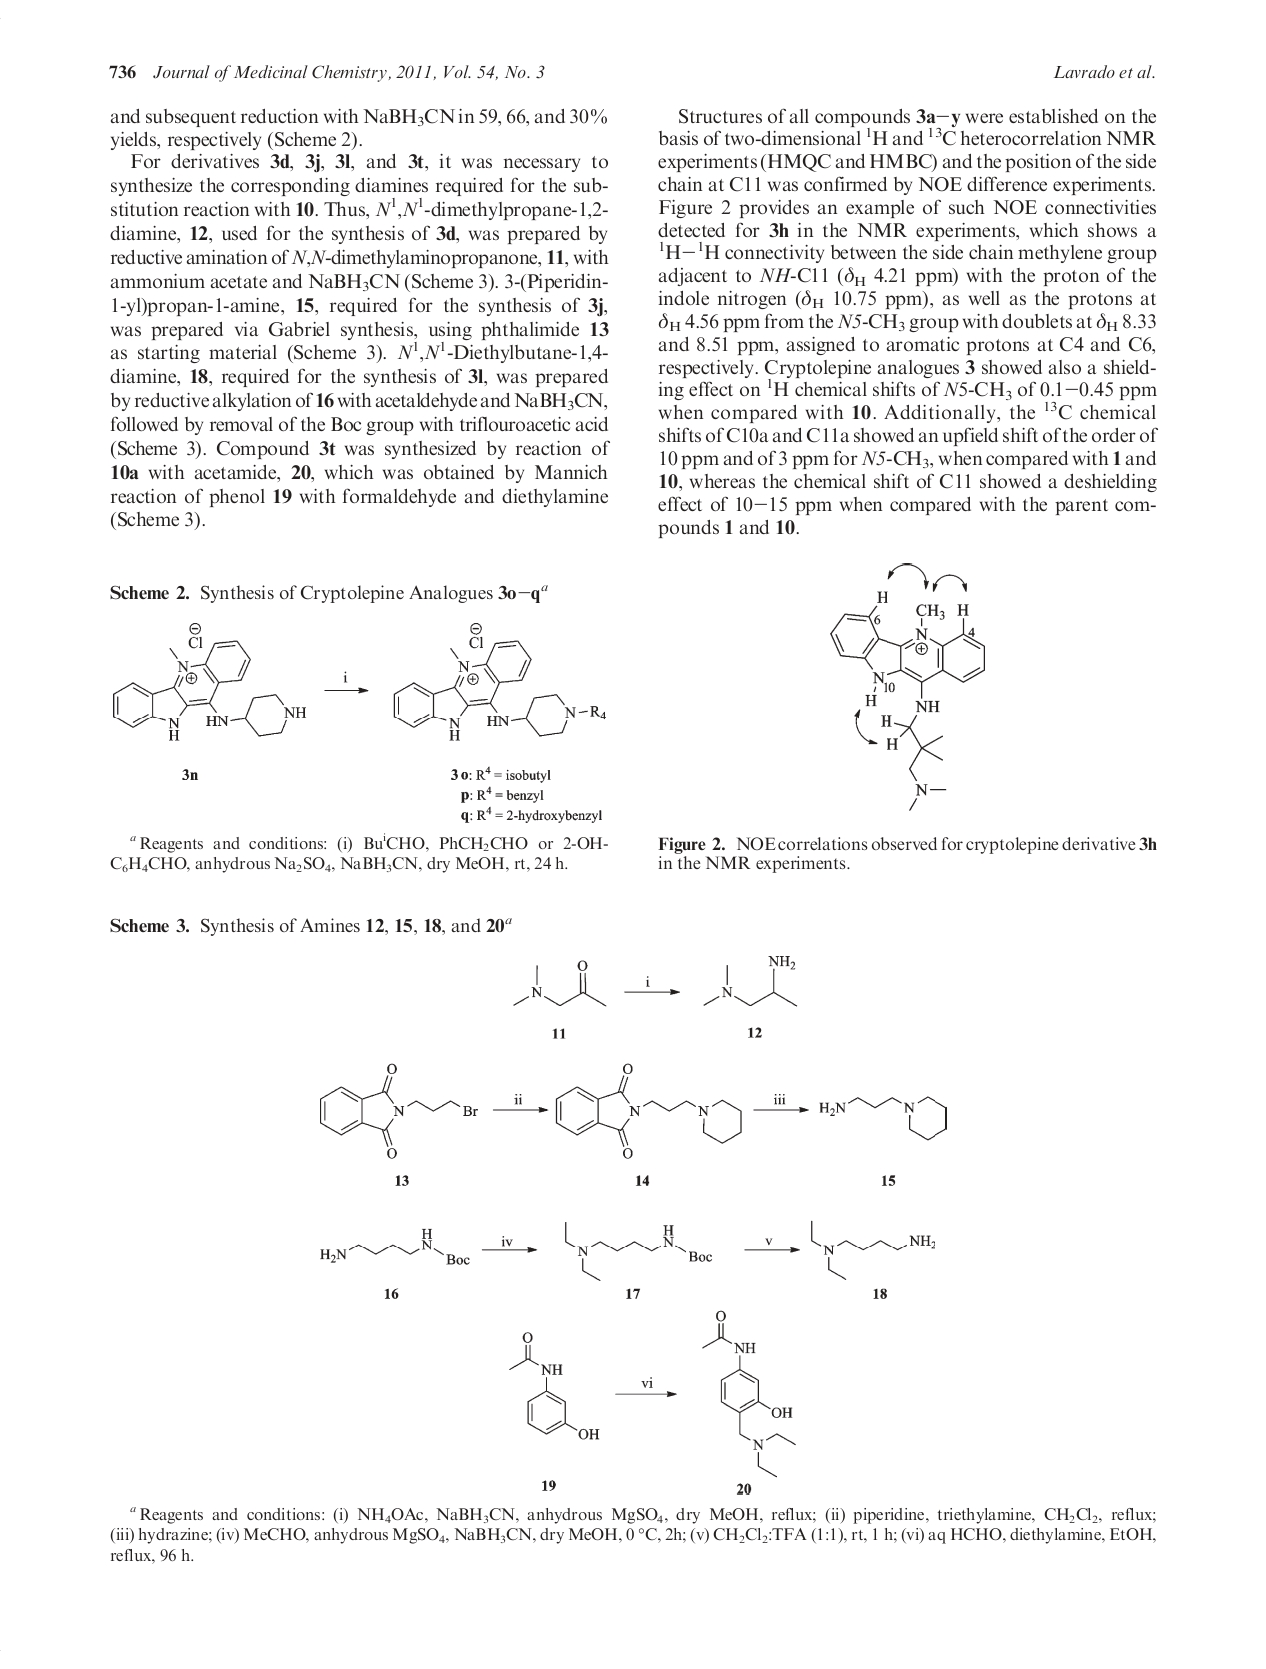exist_molecular: (828, 586, 989, 811), (391, 618, 613, 742), (104, 620, 309, 743), (555, 1061, 747, 1161), (696, 1303, 805, 1477), (314, 1060, 481, 1161), (497, 1326, 600, 1452), (560, 1212, 719, 1282), (809, 1216, 936, 1285), (815, 1091, 953, 1146), (314, 1225, 472, 1273), (701, 947, 802, 1017), (509, 956, 610, 1017)
